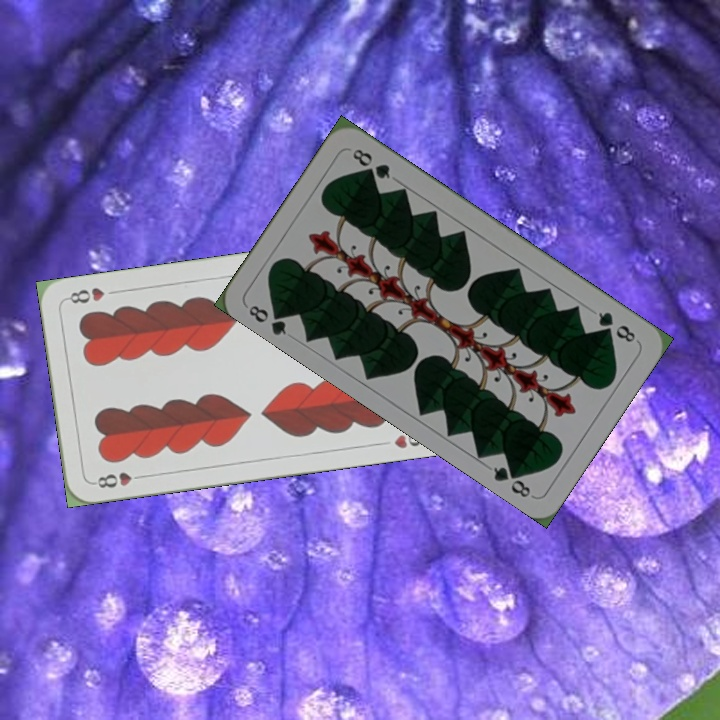G8: (244, 301, 291, 338), (594, 307, 639, 345)
H8: (89, 468, 148, 491)
